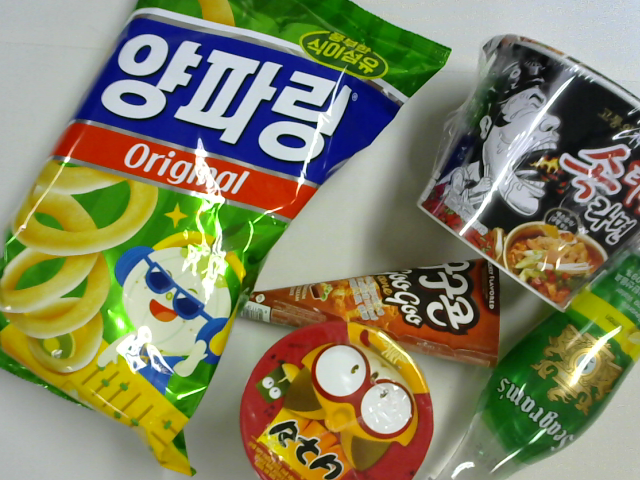GooGoo_Cone_CVS: (216, 250, 504, 367)
HeJangsock: (416, 35, 640, 315)
Oninon_Ring: (1, 1, 445, 460)
Raccoon: (240, 322, 434, 480)
Seagram_Lemon_Carbonated_Water: (425, 232, 640, 480)
